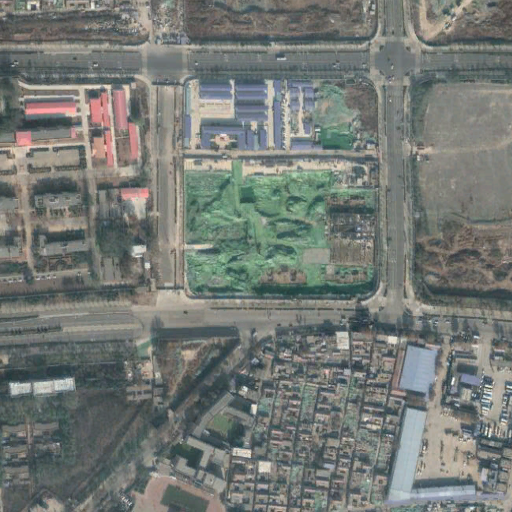cw: (184, 158, 383, 300), (317, 81, 380, 151)
